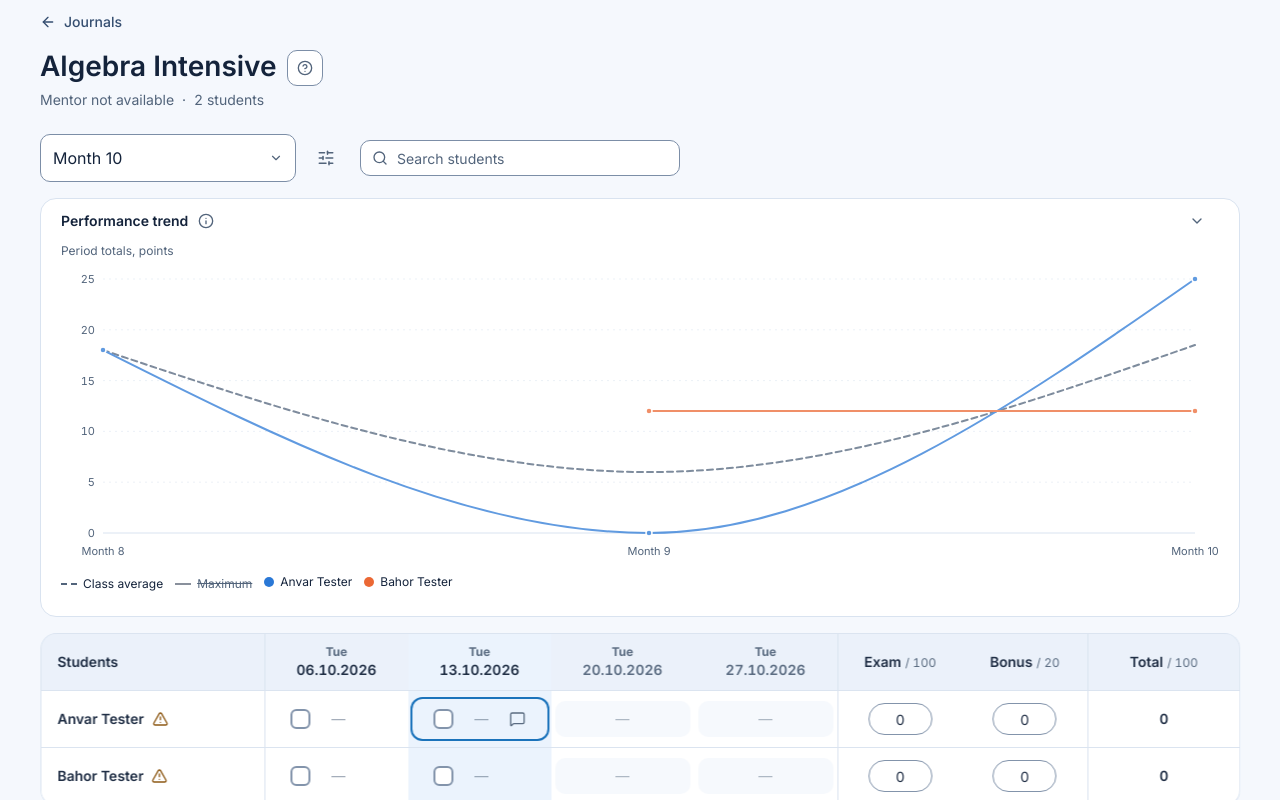
Scenario: Period settings: exam maximum › offers Review for a conflicted drain, keeps the draft, sends nothing and returns to the dialog after review
Press 4 in the 2nd element showing "—", box left=412, top=699, right=547, bottom=739
(page scrolled)
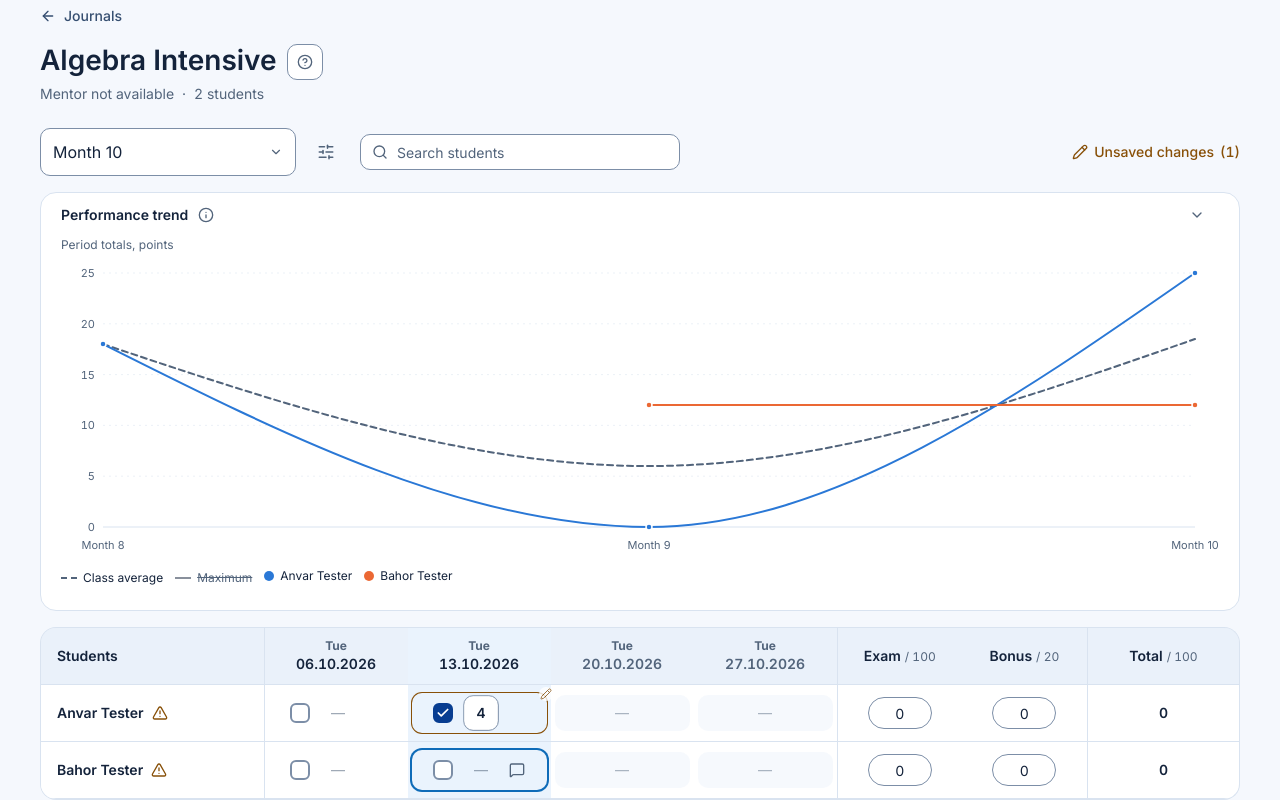
Click the button named "Period settings" at (326, 152), box left=304, top=130, right=348, bottom=174
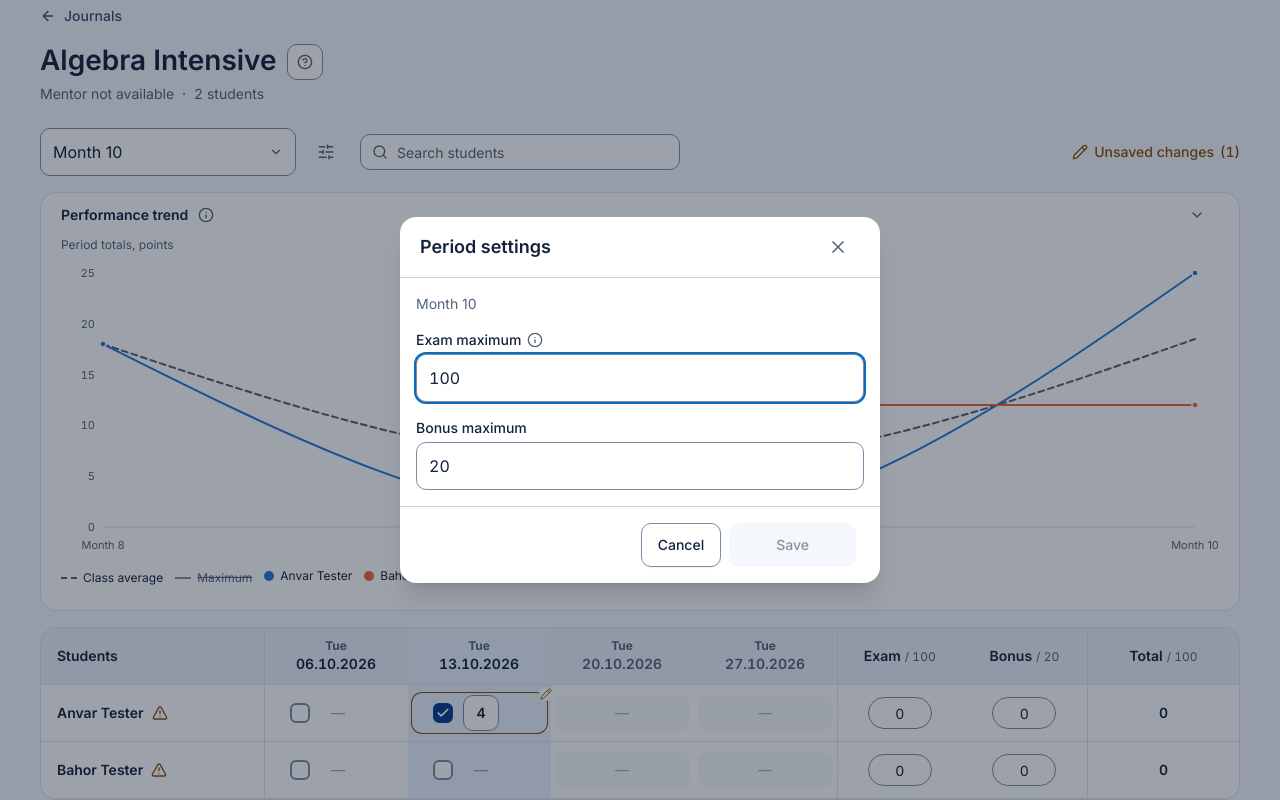
Result: the dialog "Period settings" is shown at left=400, top=217, right=880, bottom=583
Replace the text in the field labelled "Exam maximum" with "80" at (640, 378), box left=416, top=354, right=864, bottom=402
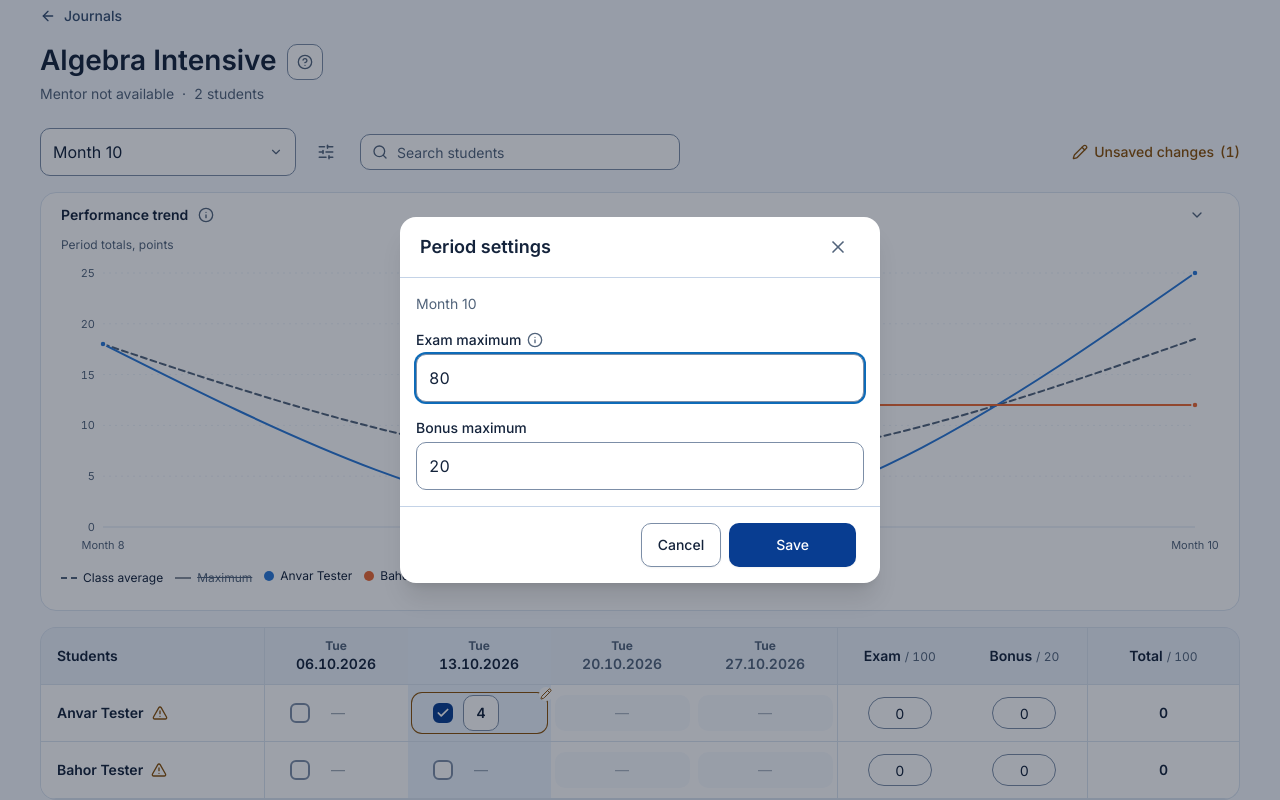
Click the button "Save" at (793, 545), box left=729, top=523, right=856, bottom=567
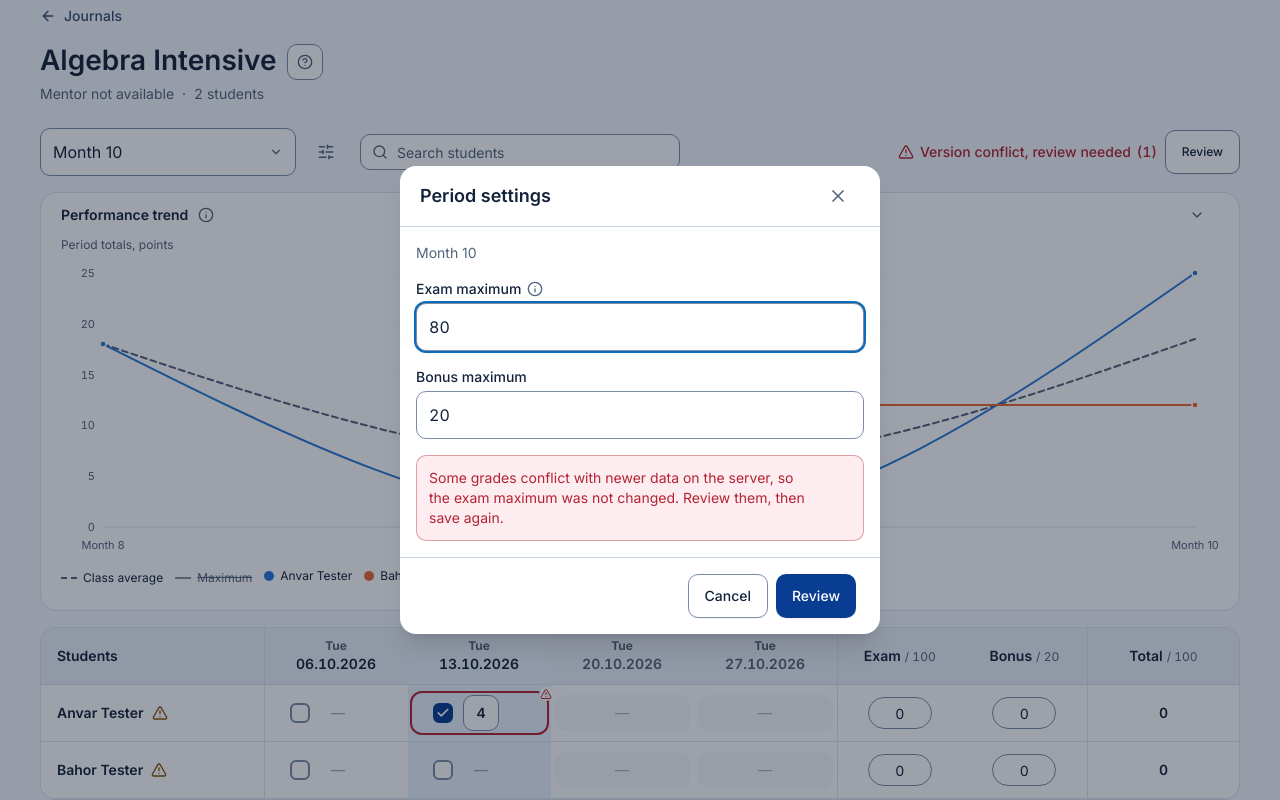
Result: the message with test id "period-settings-alert" shows "conflict with newer data" at left=429, top=469, right=805, bottom=526
Click the button "Review" at (816, 596), box left=776, top=574, right=856, bottom=618
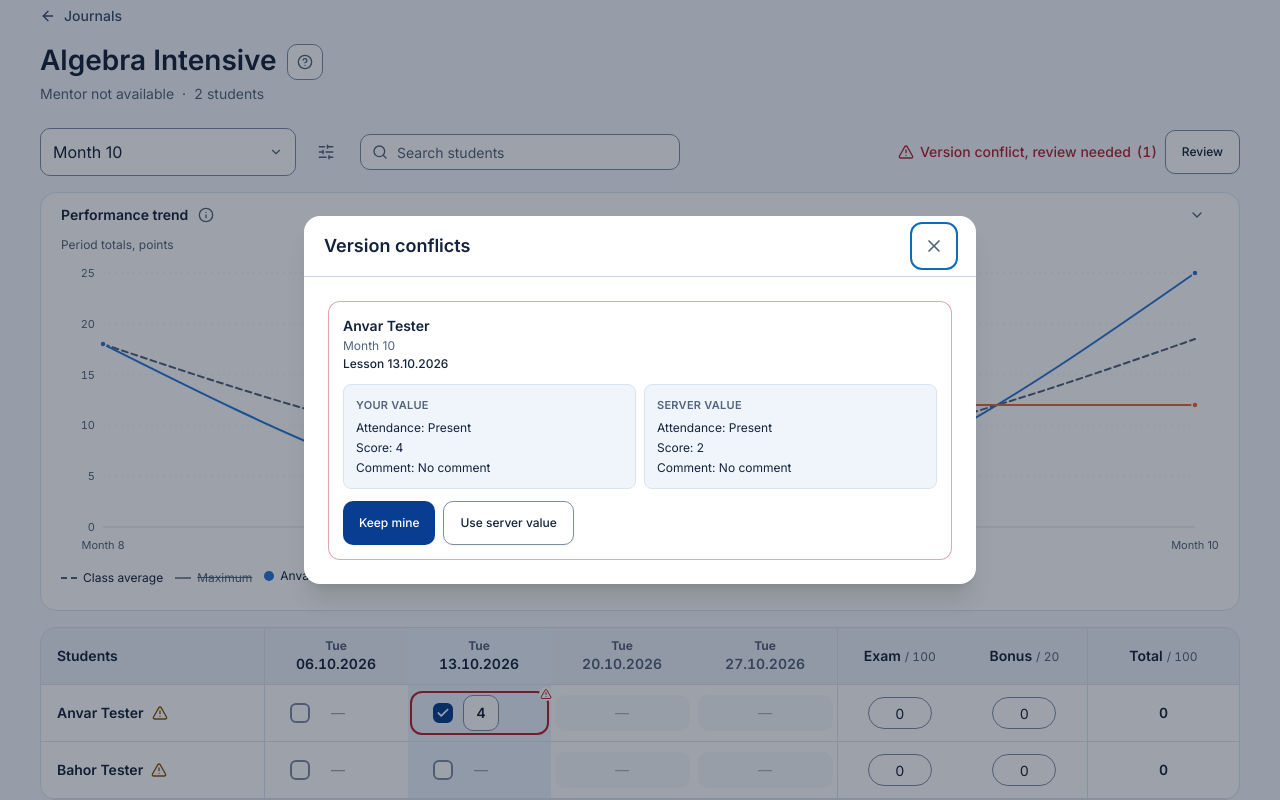
Result: the list with test id "conflict-review-list" is shown at left=328, top=301, right=952, bottom=560
Result: the heading "Period settings" is gone
